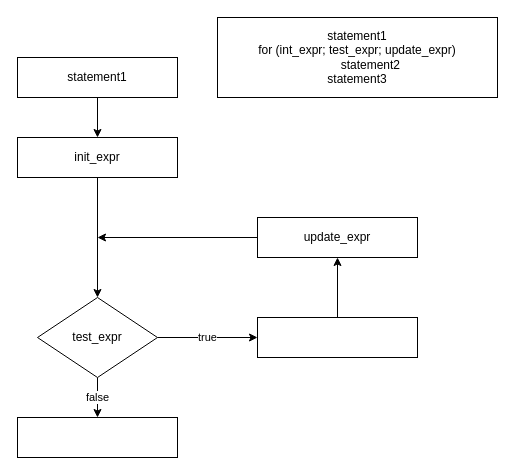
This 515x475 diagram has some shape labels left out. Here are the shapes that lost their labels. From the top down, the centre of each, then its label:
(337,337): statement2
(97,437): statement3
